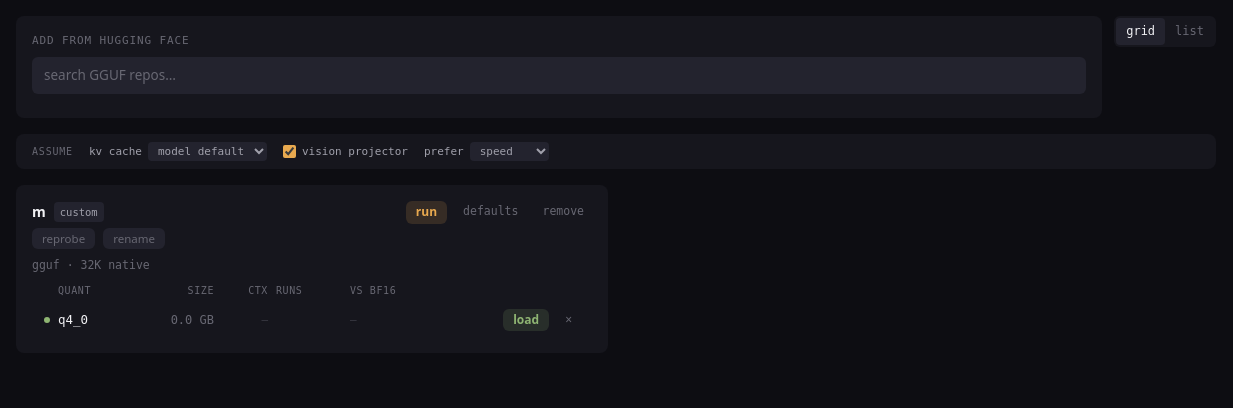
the Models page's reprobe and rename › reprobes the model and shows the server's refusal
The image size is (1233, 408).
Click the button "reprobe".
click(64, 238)  # box x1=32 y1=228 x2=95 y2=249
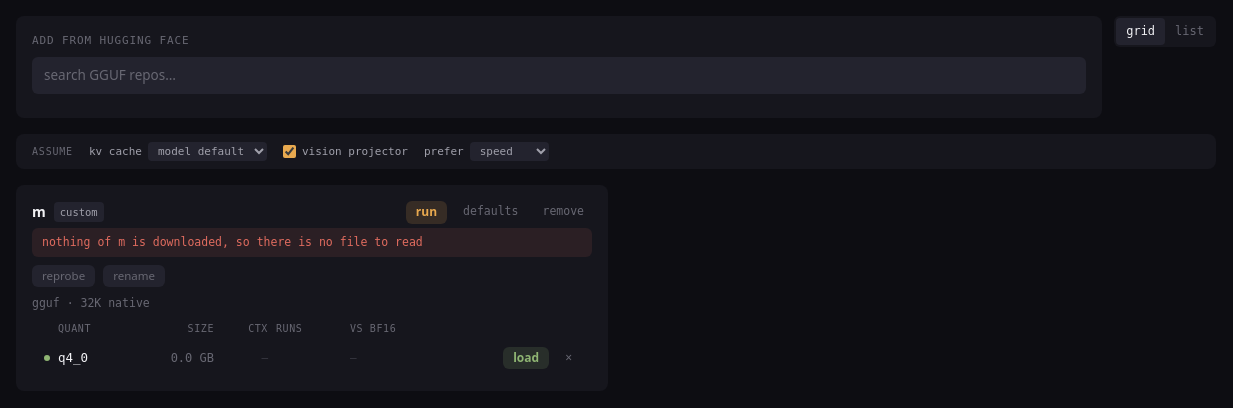
Expected: the text "nothing of m is downloaded, so there is no file to read" is shown, x1=32 y1=228 x2=592 y2=257
